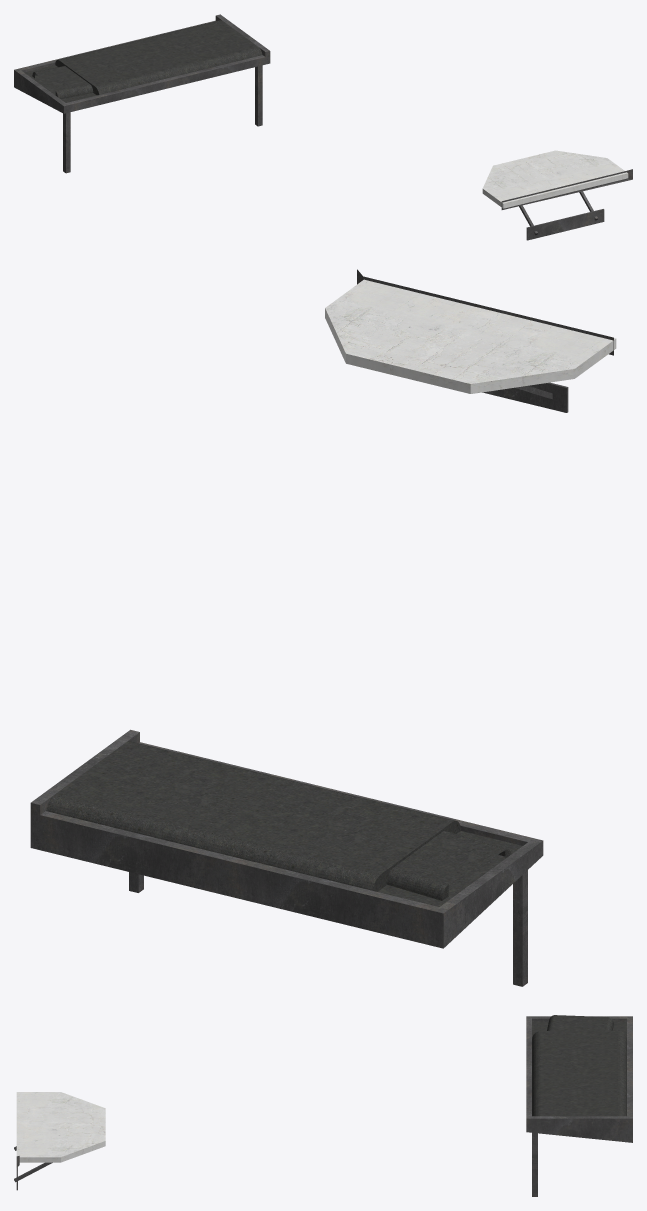
File: tabledandcrofat.fbx
The picture shows the model from 3 angles, top to bottom: view 1: azimuth 30°, elevation 25°; view 2: azimuth 150°, elevation 25°; view 3: azimuth 270°, elevation 25°; orthographic projection. The views are drawn at different scales.
Parts seen in each view (by area): view 1: Chamber__4_.001, Chamber__4_.002; view 2: Chamber__4_.001, Chamber__4_.002; view 3: Chamber__4_.001, Chamber__4_.002.
Part boxes in pixels (x1,y1,x2,y2): Chamber__4_.001: [14, 14, 270, 173]; Chamber__4_.002: [482, 150, 632, 240]; Chamber__4_.001: [30, 729, 543, 986]; Chamber__4_.002: [325, 269, 616, 412]; Chamber__4_.001: [526, 1015, 632, 1196]; Chamber__4_.002: [14, 1092, 105, 1190].
Size of the model in its own units: 564 by 165 by 853.
Materials: 3 (3 with a texture image).
